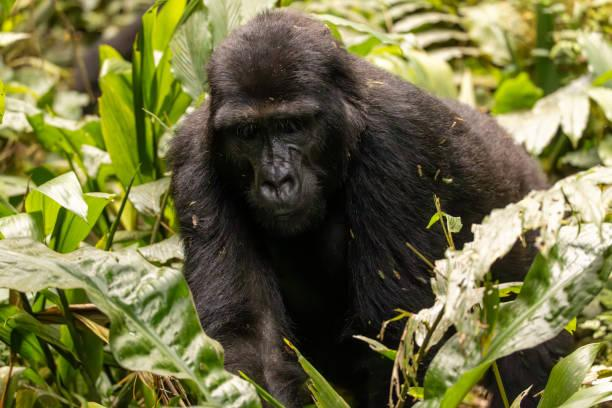goriile_montagne: (149, 7, 512, 403)
